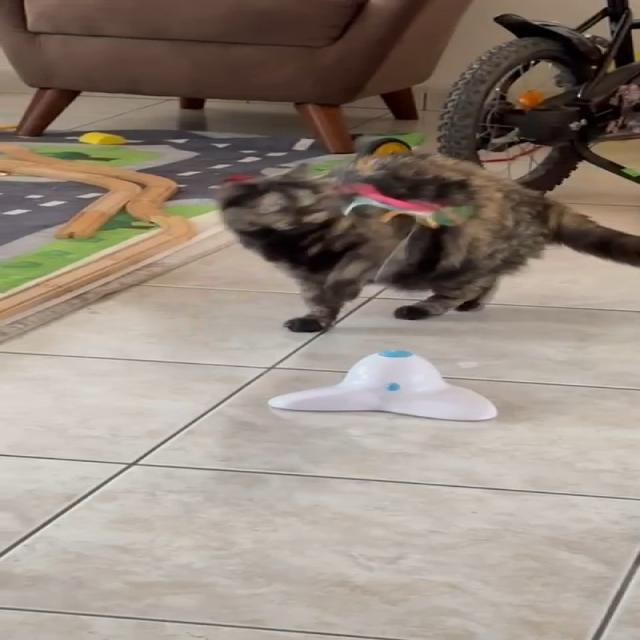authorized: (212, 150, 639, 333)
